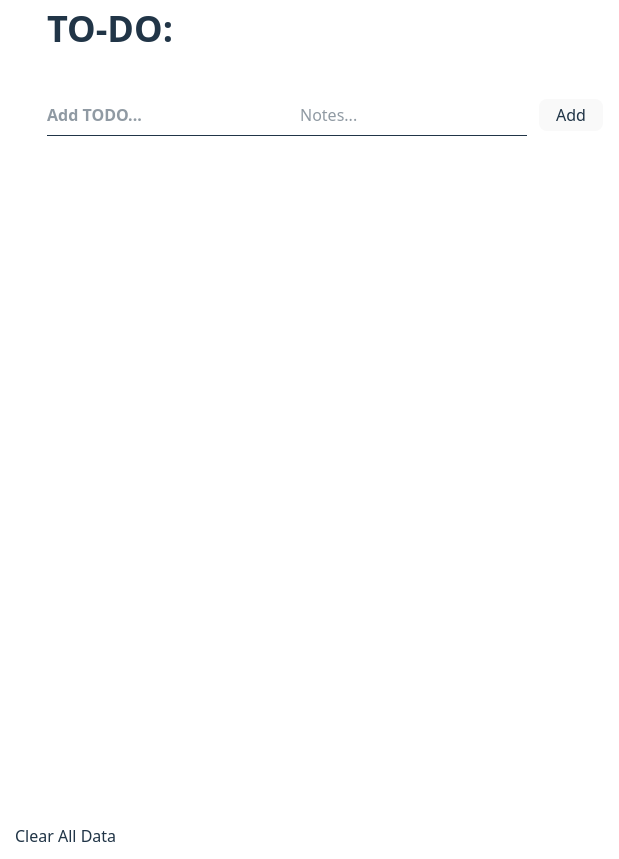
Test case: App › should render app and add an item
The width and height of the screenshot is (619, 859).
Expected: the field named "add-input-desc" is shown, [300,99,531,131]
Type "Play Guitar" into the field named "add-input-title" at (170,115), box [47,99,292,131]
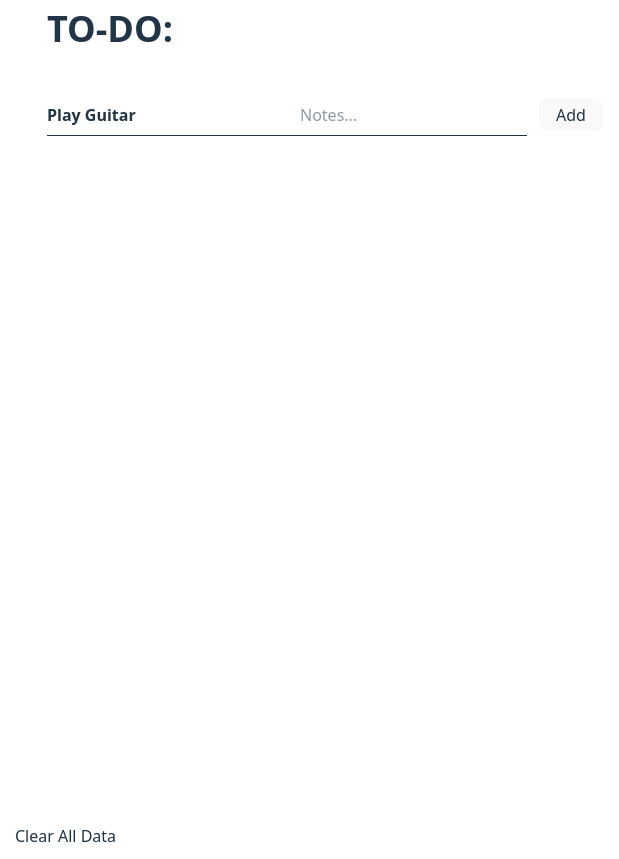
Type "With Hands" into the field named "add-input-desc" at (416,115), box [300,99,531,131]
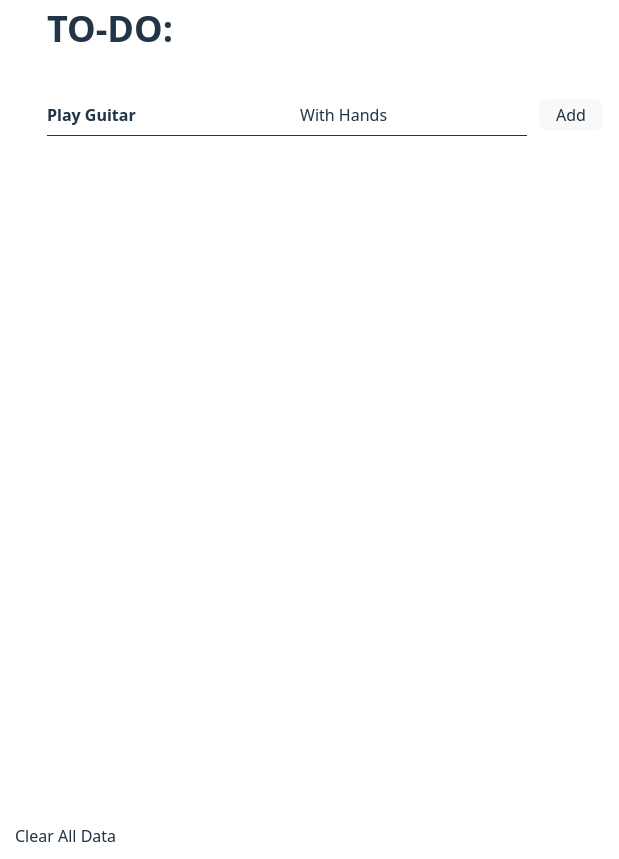
Click the button "Add" at (571,115), box [539,99,603,131]
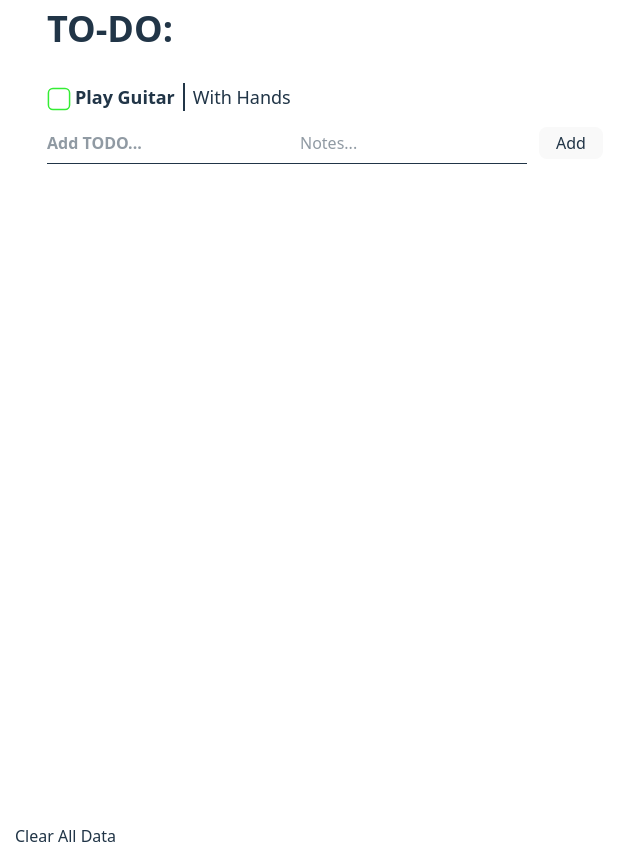
Now the text "Play Guitar" is shown, box [75,85,175,109]
